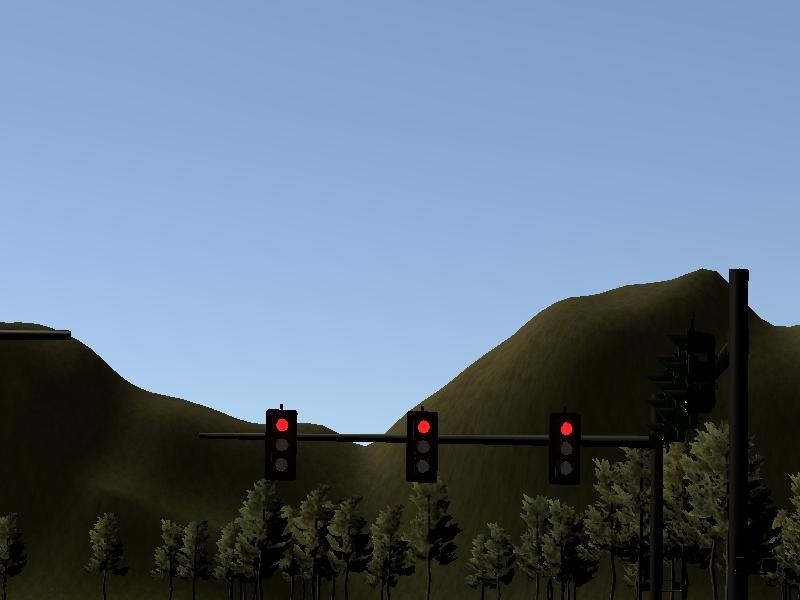traffic_light_red: (251, 411, 609, 483)
